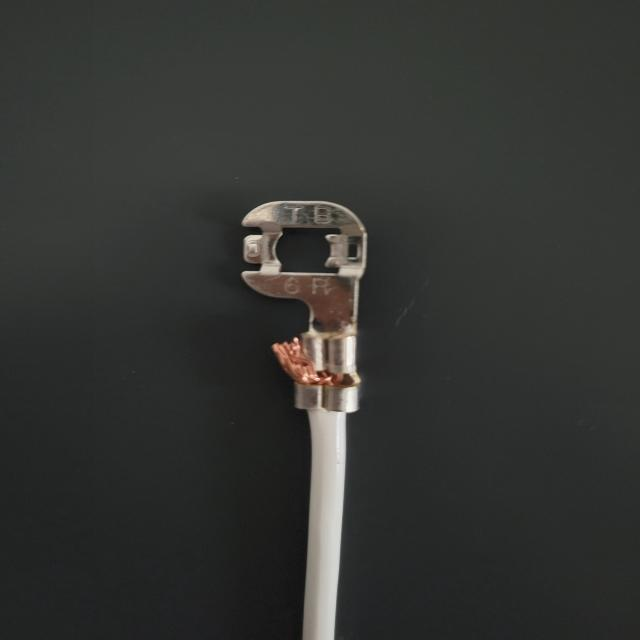defect: (243, 313, 405, 439)
